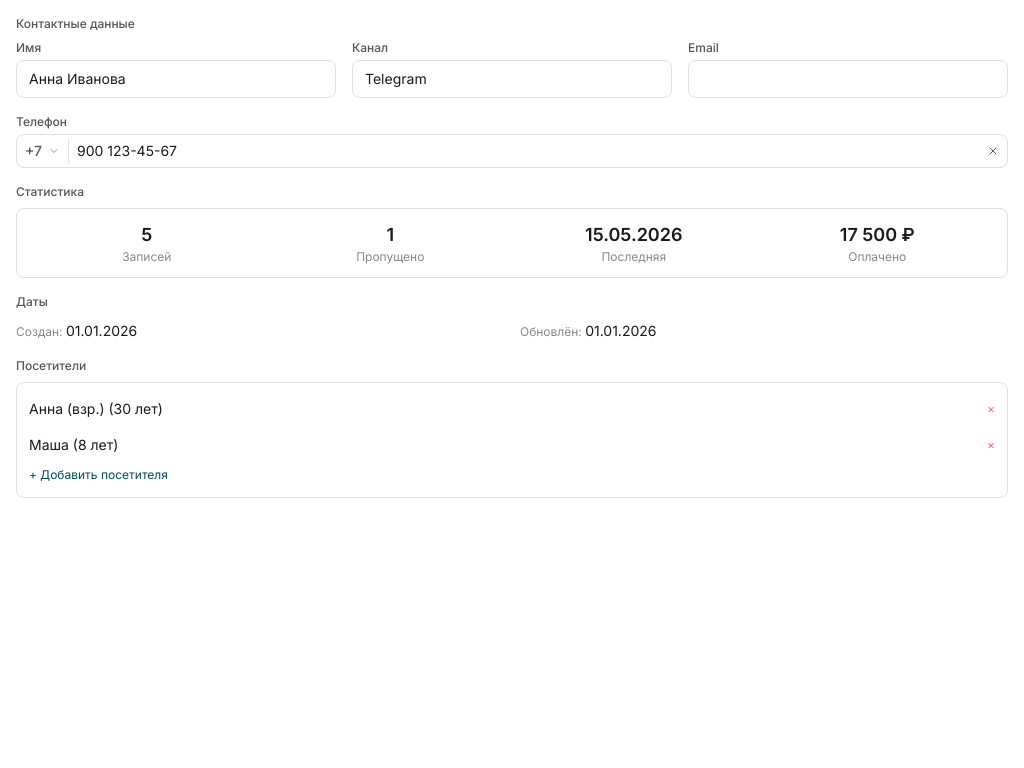
Scenario: ClientInfoTab › visitors section › dry-run 409 → DeleteDialog opens with «Посещения — будут удалены:» and the row stays
Click the button named "Удалить посетителя". click: (991, 409)
box: [987, 401, 995, 417]
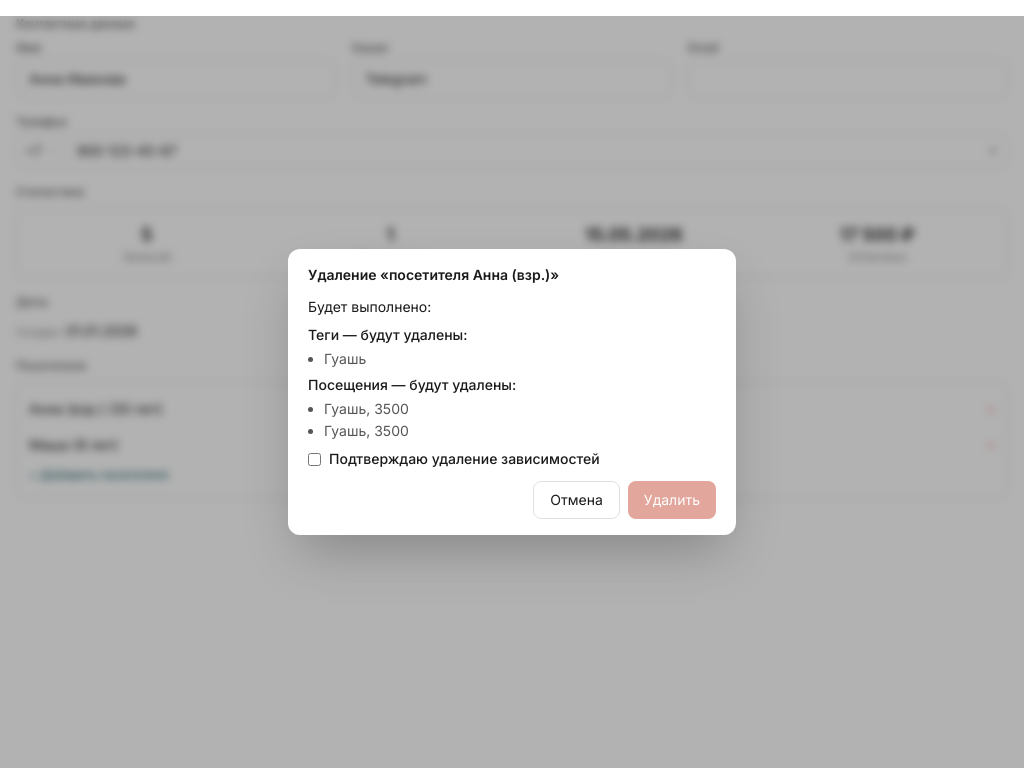
Expected: the number of elements with test id "visitor-row" is 2, [29, 395, 995, 423]; [29, 431, 995, 459]
Now the heading "Удаление «посетителя Анна (взр.)»" is shown, box [308, 266, 559, 283]
Now the list item with test id "dep-visits" shows "Посещения — будут удалены:", box [308, 376, 516, 393]
